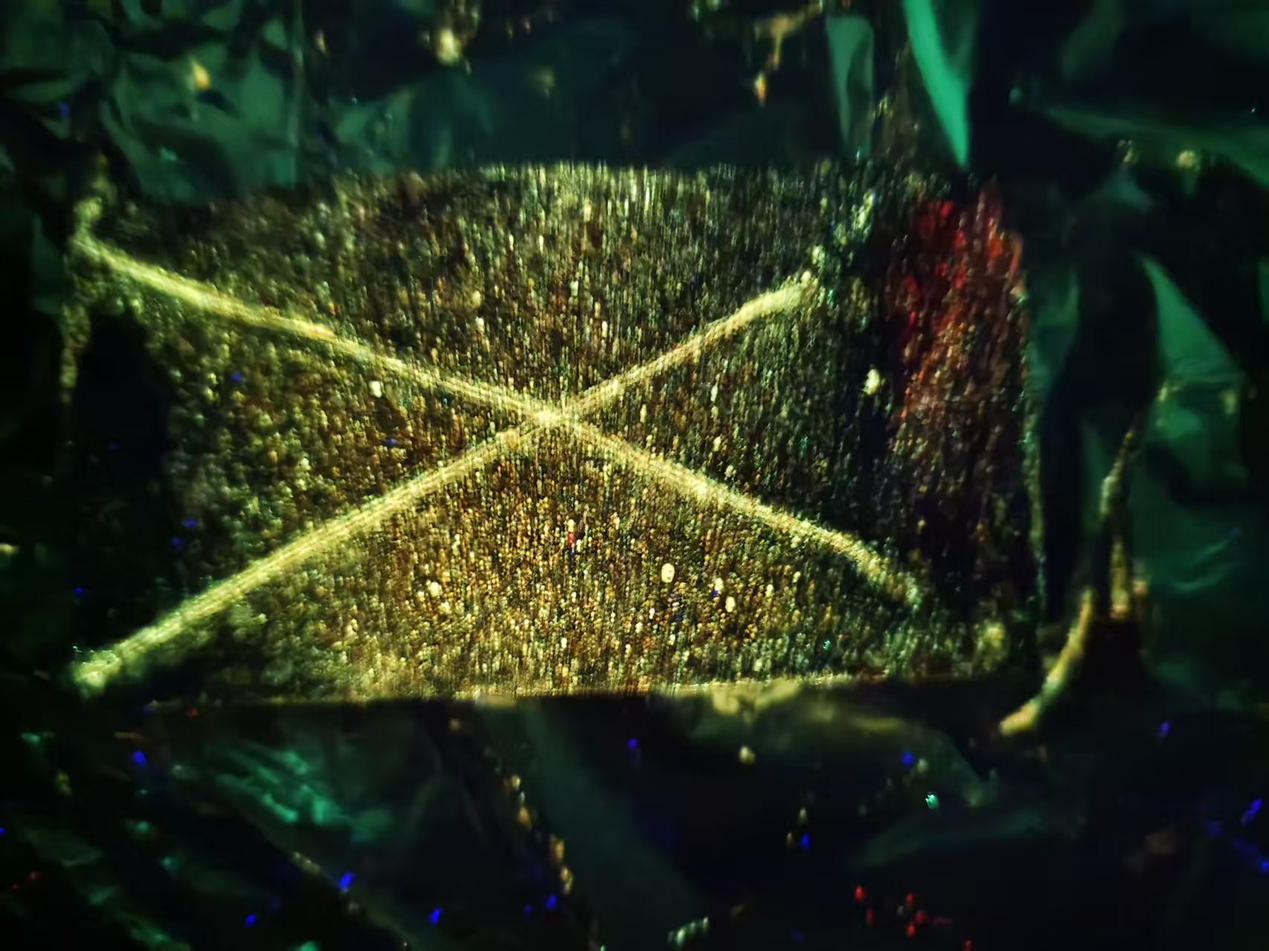Crater: (62, 204, 943, 612), (54, 253, 834, 710)
